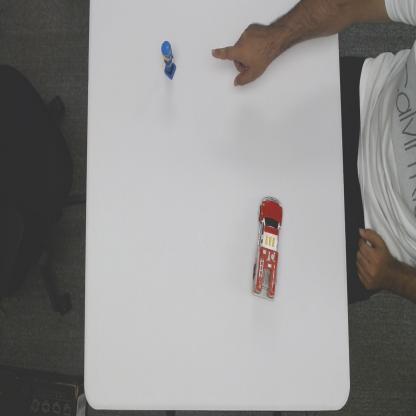Arm: (271, 0, 339, 57)
Firetruck: (252, 195, 283, 302)
Hand: (210, 21, 271, 89)
